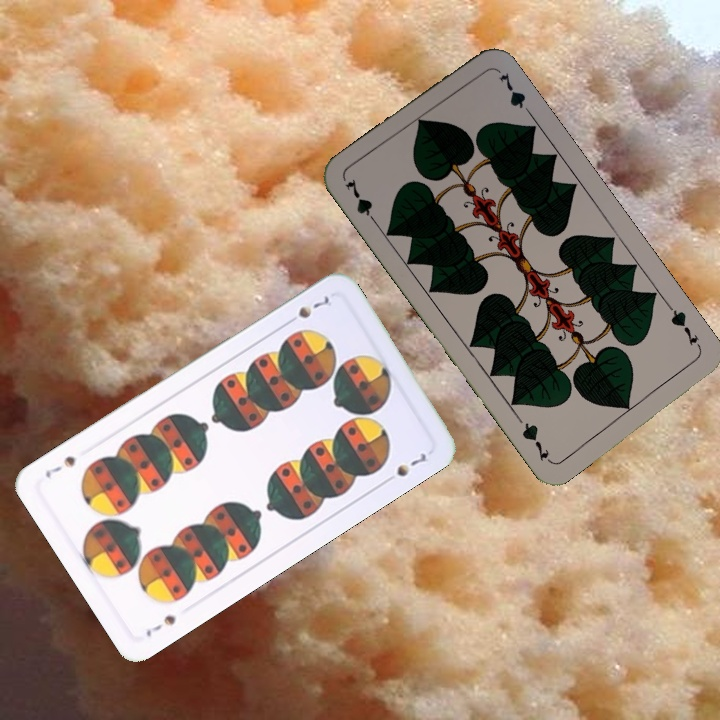G7: (341, 174, 381, 229), (664, 302, 704, 353)
S7: (281, 291, 332, 328), (141, 610, 178, 640)
